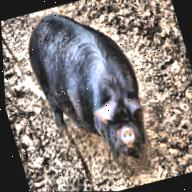boar: (18, 0, 161, 178)
